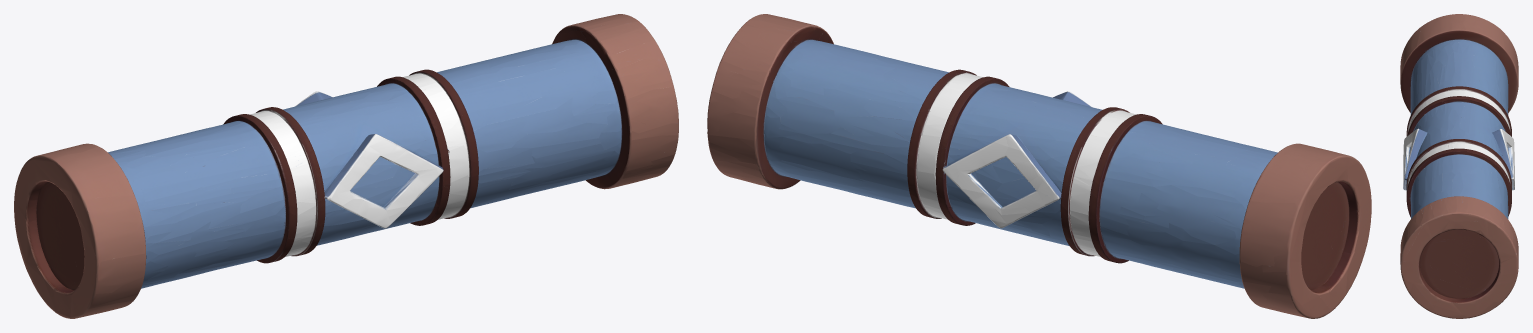
File: mayo-weapon.fbx
3 views of the same model, side by side, from view 1: azimuth 30°, elevation 25°; view 2: azimuth 150°, elevation 25°; view 3: azimuth 270°, elevation 25° (orthographic). The views are drawn at different scales.
Visible parts, largest first — view 1: output_unwrapped; view 2: output_unwrapped; view 3: output_unwrapped.
Part boxes in pixels (x1,y1,x2,y2): output_unwrapped: [14, 14, 678, 318]; output_unwrapped: [707, 14, 1371, 318]; output_unwrapped: [1400, 14, 1518, 318].
Bounding box in the file's own units: 190 × 47.62 × 47.73.
Materials: 1 (1 with a texture image).
